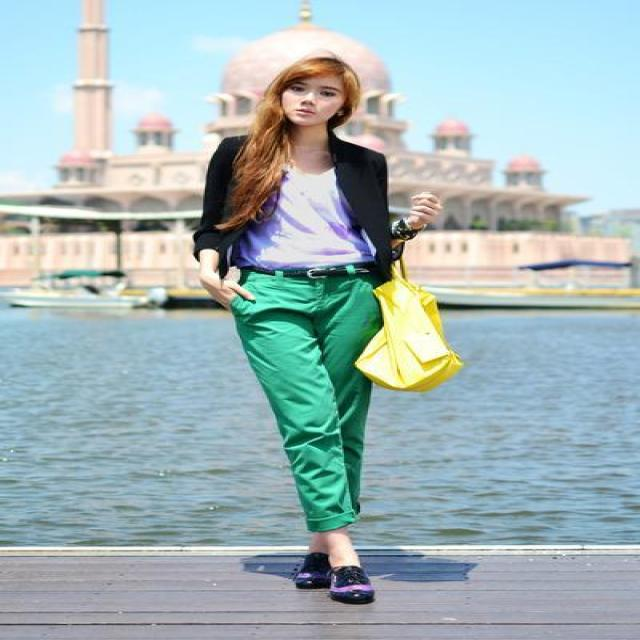bag: (355, 254, 459, 390)
jacket: (185, 116, 422, 262)
pants: (230, 266, 382, 531)
shirt: (242, 166, 374, 268)
shoe: (296, 552, 373, 604)
